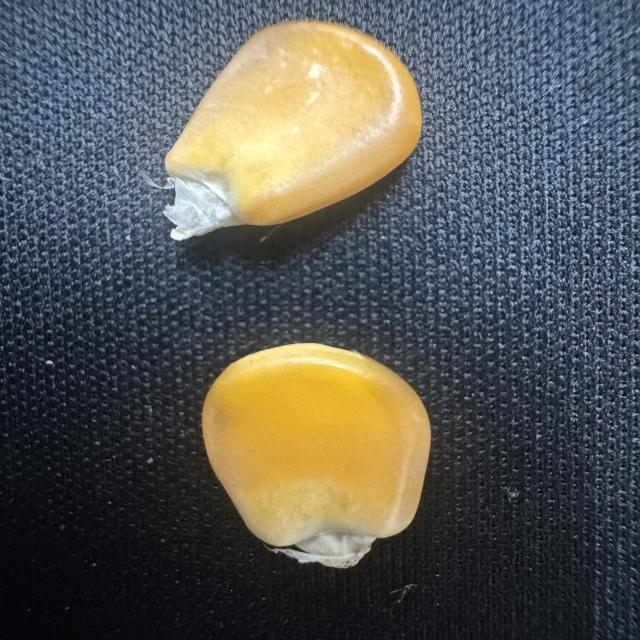Good-Seed: (157, 15, 425, 244), (195, 338, 438, 570)
